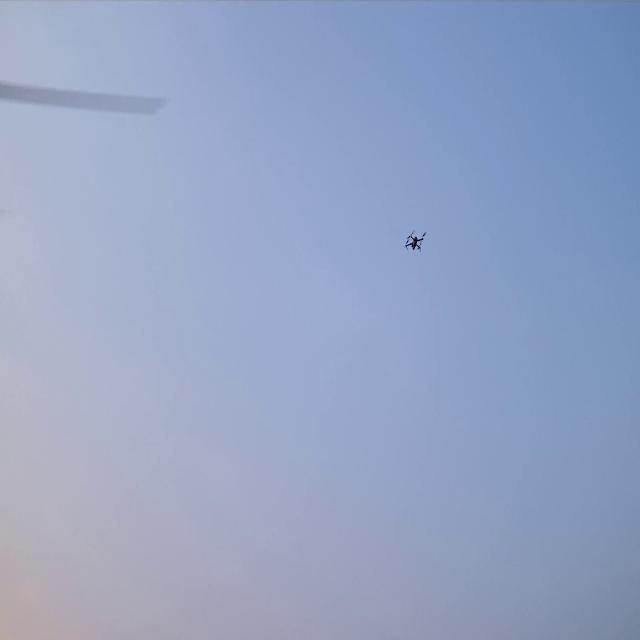UAV: (404, 226, 426, 252)
